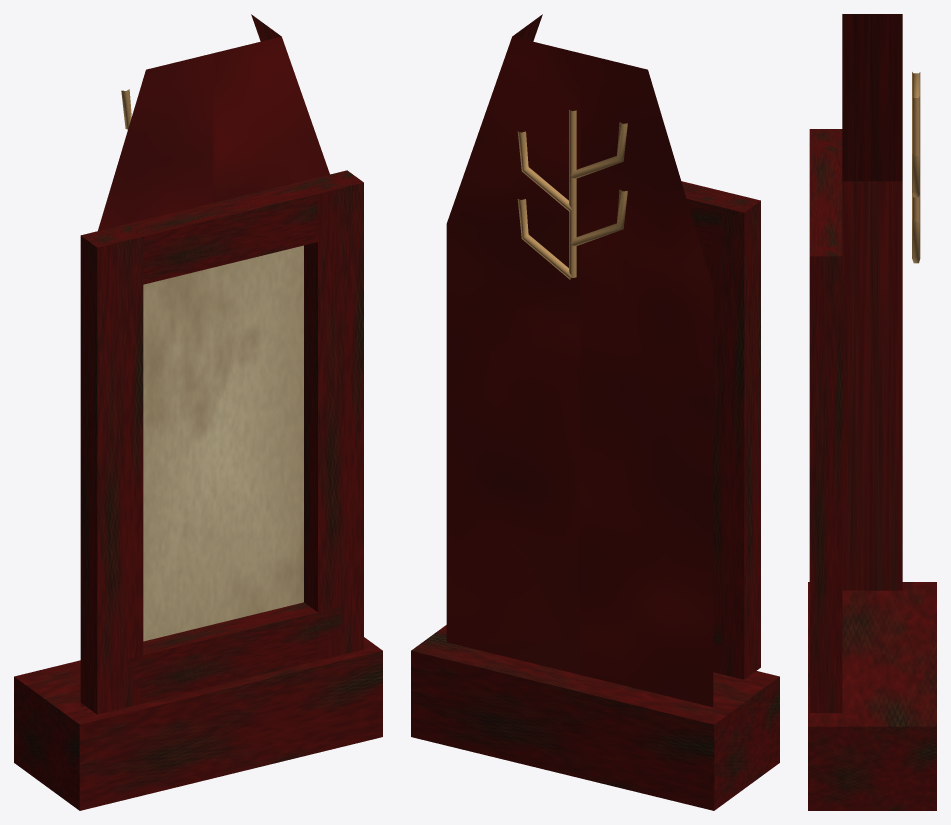
The model's file is tablet.glb.
The picture shows the model from 3 angles, left to right: view 1: azimuth 30°, elevation 25°; view 2: azimuth 150°, elevation 25°; view 3: azimuth 270°, elevation 25°; orthographic projection. The views are drawn at different scales.
Visible parts, largest first — view 1: Art_BurntLacquer_Body, FacePaper, Body; view 2: Body, Art_BurntLacquer_Body, Art_OldGoldThread_Body; view 3: Art_BurntLacquer_Body, Body, Art_OldGoldThread_Body.
Part boxes in pixels (bbox=[...]): Art_BurntLacquer_Body: bbox=[14, 170, 382, 810]; FacePaper: bbox=[143, 245, 303, 641]; Body: bbox=[80, 14, 329, 707]; Body: bbox=[446, 14, 713, 707]; Art_BurntLacquer_Body: bbox=[411, 181, 779, 810]; Art_OldGoldThread_Body: bbox=[517, 110, 627, 279]; Art_BurntLacquer_Body: bbox=[808, 129, 936, 810]; Body: bbox=[842, 14, 902, 590]; Art_OldGoldThread_Body: bbox=[912, 72, 920, 263].
Size of what is drawn, in the model's own units: 0.125 by 0.28 by 0.047.
4 materials, 3 textured.
